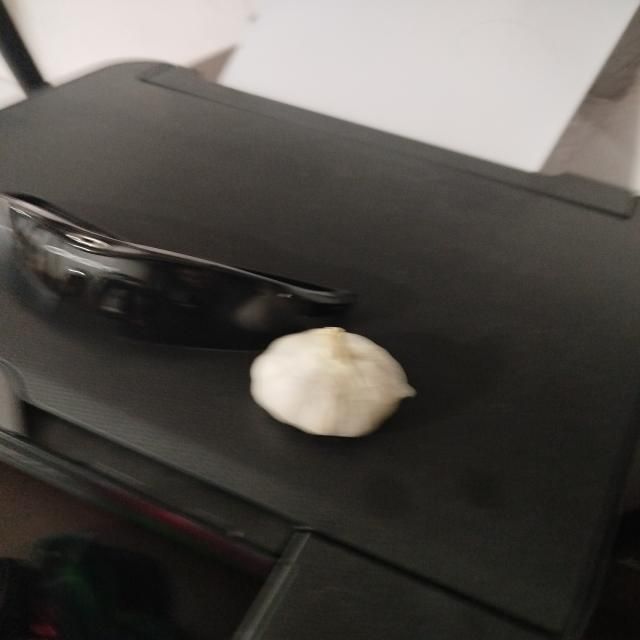garlic: (248, 326, 417, 438)
